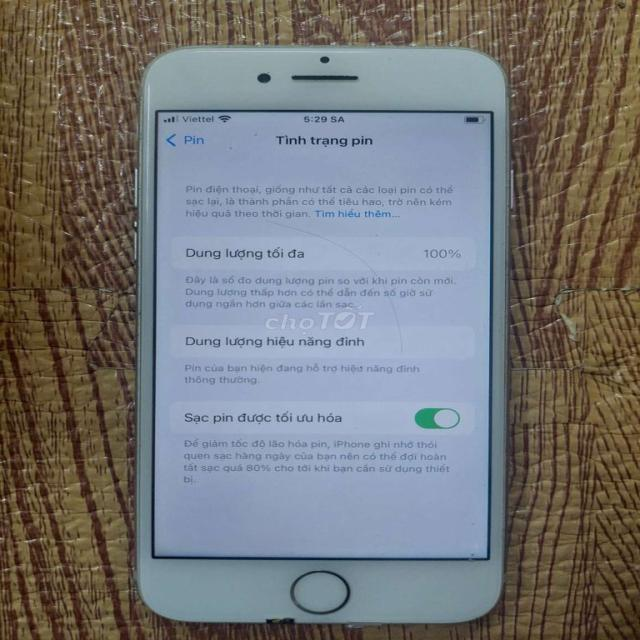scratch: (220, 119, 273, 151), (453, 514, 478, 570)
